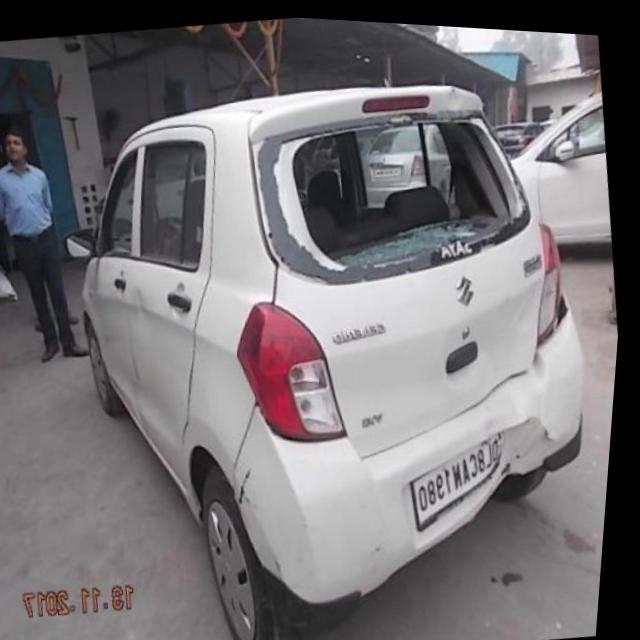Car-Damage: (254, 89, 542, 292), (449, 331, 562, 425), (482, 407, 568, 483), (533, 282, 581, 350), (128, 274, 154, 332), (238, 459, 264, 508)
